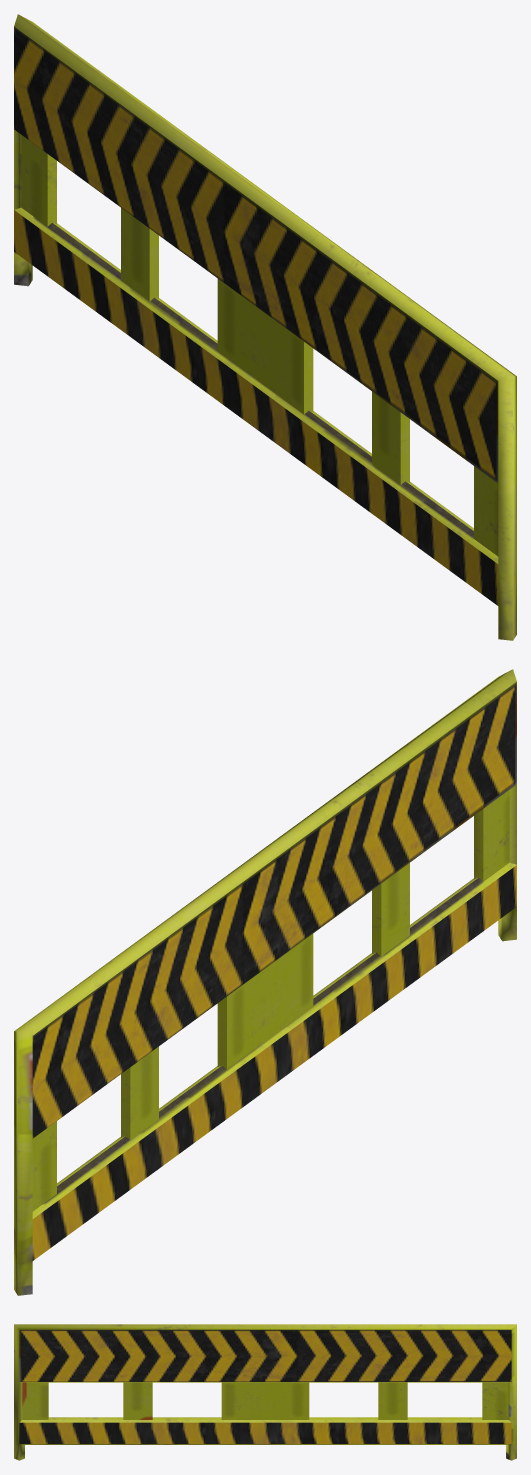
File: road_block_4.fbx
The picture shows the model from 3 angles, top to bottom: view 1: azimuth 30°, elevation 25°; view 2: azimuth 150°, elevation 25°; view 3: azimuth 270°, elevation 25°; orthographic projection. The views are drawn at different scales.
Visible parts, largest first — view 1: Barrier_Plastic; view 2: Barrier_Plastic; view 3: Barrier_Plastic.
Part boxes in pixels (<box>): Barrier_Plastic: <box>14,14,516,640</box>; Barrier_Plastic: <box>14,669,516,1295</box>; Barrier_Plastic: <box>14,1324,516,1460</box>.
Size of the model in its own units: 4.89 by 66.25 by 225.
